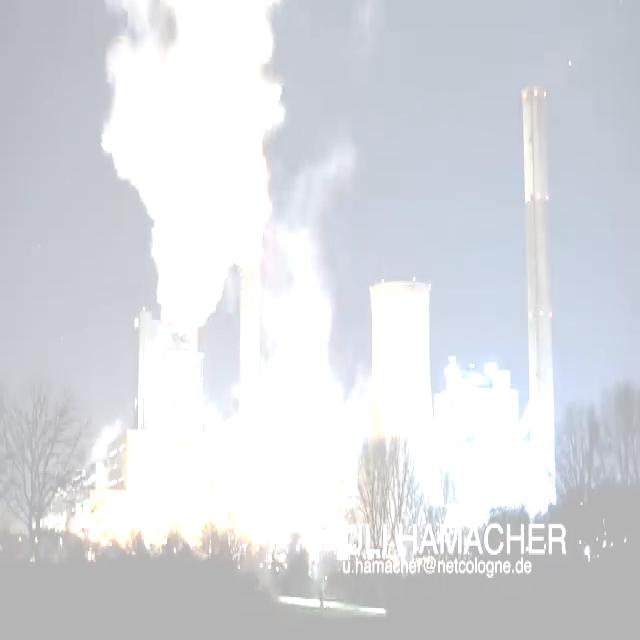smoke: (99, 0, 310, 325)
